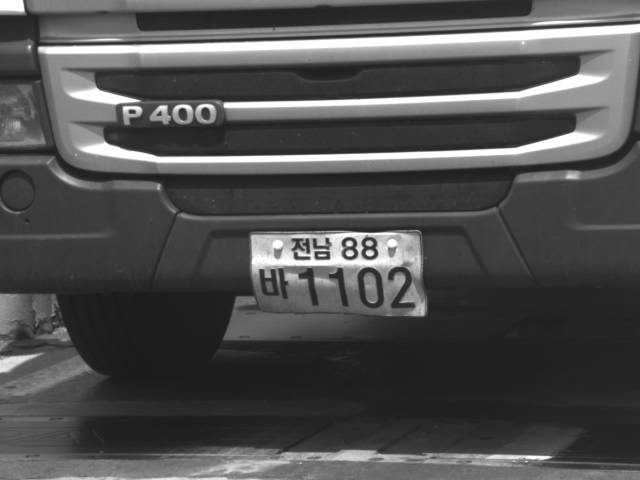car: (1, 1, 639, 384)
plate: (248, 231, 429, 318)
